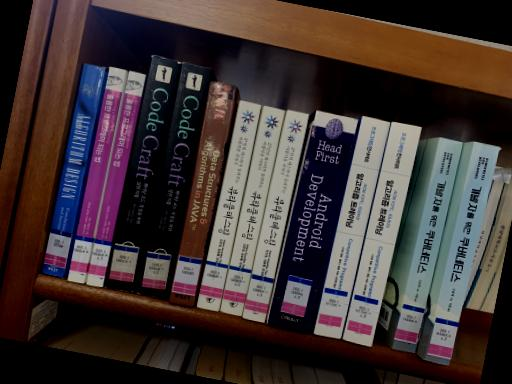book-spine: (267, 111, 357, 334), (104, 56, 181, 293), (342, 122, 421, 347), (138, 62, 211, 299), (423, 142, 500, 365), (314, 116, 389, 338), (168, 81, 237, 308), (392, 137, 463, 352), (242, 109, 309, 323), (196, 100, 262, 312), (40, 63, 105, 278), (219, 105, 284, 317), (85, 71, 146, 288), (67, 66, 126, 285)
